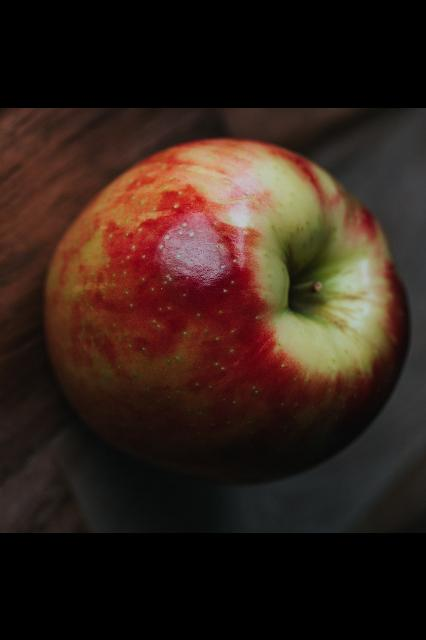Apples: (46, 136, 408, 478)
